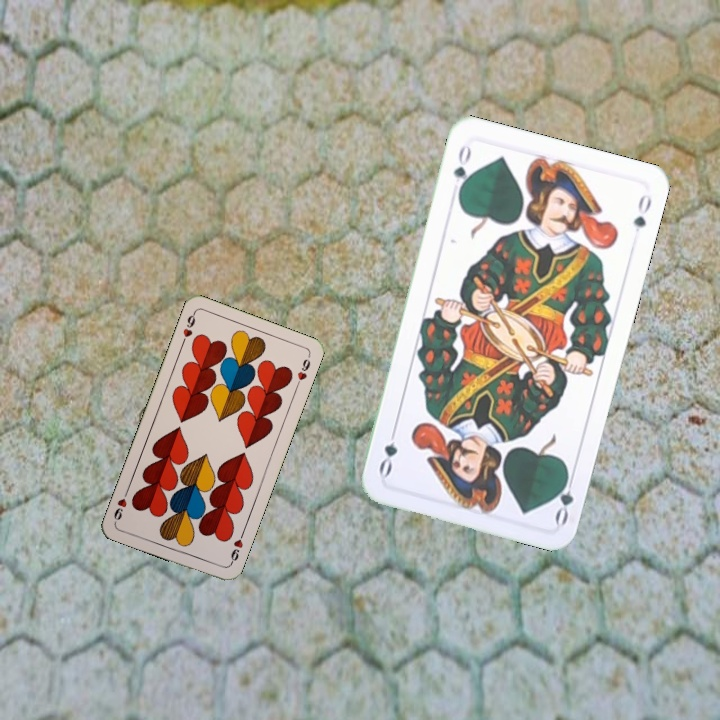GO: (550, 467, 578, 527), (449, 140, 474, 199)
H9: (177, 309, 198, 348), (226, 528, 247, 567)
